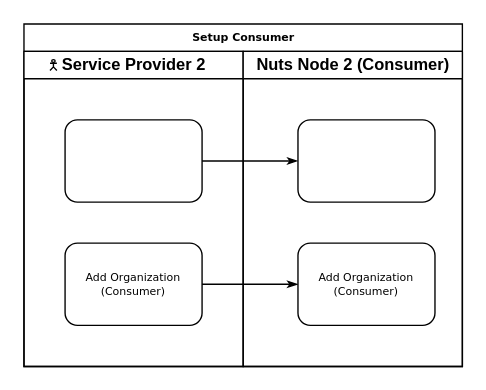
Image size: 486x390. Some labels were removed from this diagram. Each missing label, with the centre of its shape:
"Add Service Provider (Node 2 SP)" belongs at point (133, 160).
"Add Service Provider (Service Provider 2)" belongs at point (366, 160).
